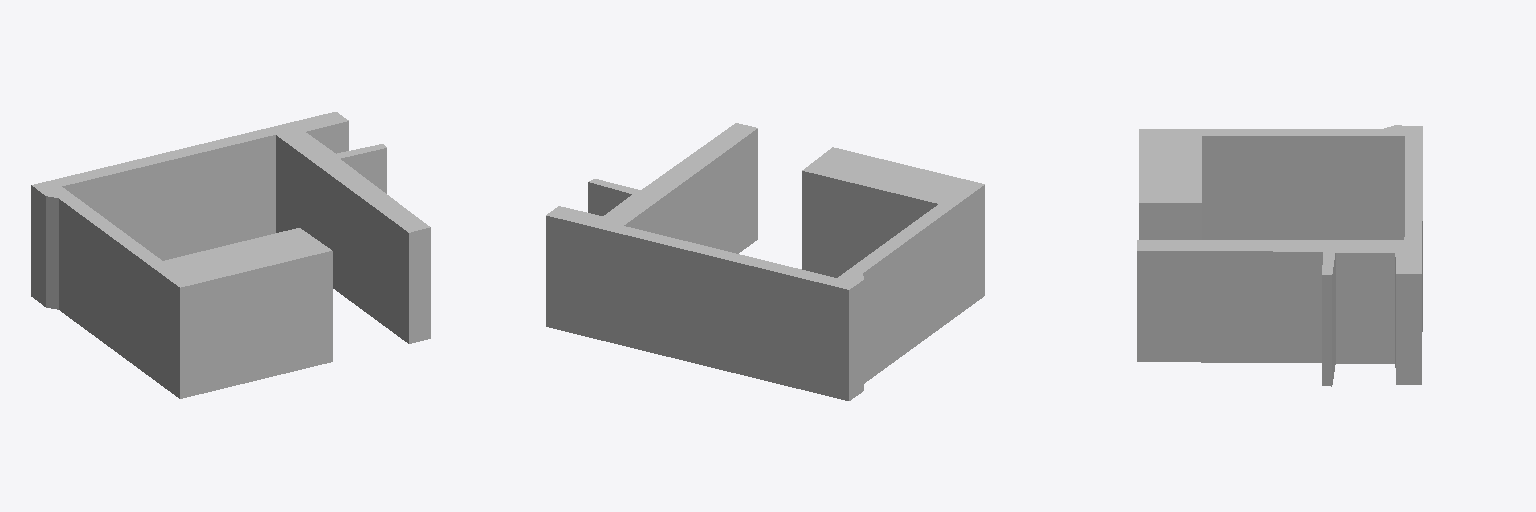
Rendered from bright_134.obj.
3 renders of one model, left to right at view 1: azimuth 30°, elevation 25°; view 2: azimuth 150°, elevation 25°; view 3: azimuth 270°, elevation 25°, orthographic.
Parts seen in each view (by area): view 1: polySurface1; view 2: polySurface1; view 3: polySurface1.
Boxes of the visible parts, box(x1,y1,x2,y2) form: polySurface1: box(31, 112, 430, 398); polySurface1: box(546, 123, 984, 400); polySurface1: box(1137, 125, 1422, 386).
Size of the model in its own units: 54.44 by 18.89 by 44.05.